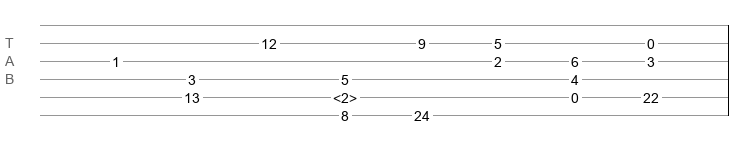0: (571, 90, 579, 100), (647, 36, 655, 46)
1: (112, 54, 120, 64)
12: (261, 36, 277, 46)
13: (184, 90, 200, 100)
2: (494, 54, 502, 64)
22: (643, 90, 659, 100)
24: (414, 108, 430, 118)
3: (188, 72, 196, 82), (647, 54, 655, 64)
4: (571, 72, 579, 82)
5: (341, 72, 349, 82), (494, 36, 502, 46)
6: (571, 54, 579, 64)
8: (341, 108, 349, 118)
9: (418, 36, 426, 46)
harmonic: (333, 90, 357, 100)
